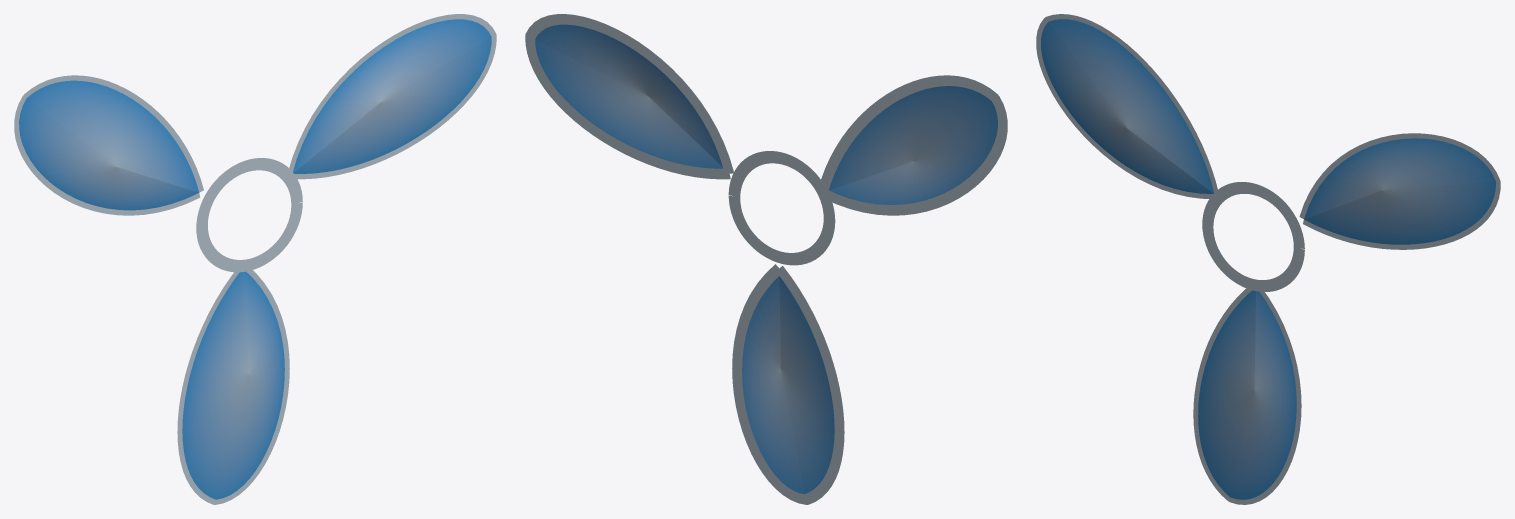
File: 2073_Riptide_CoexistOverall_HydroRiptideSymbol.fbx
3 views of the same model, side by side, from view 1: azimuth 30°, elevation 25°; view 2: azimuth 150°, elevation 25°; view 3: azimuth 330°, elevation 25° (orthographic). The views are drawn at different scales.
Parts seen in each view (by area): view 1: PART_Hydro_AuthoredRiptideLeaf_0, PART_Hydro_AuthoredRiptideLeaf_2, PART_Hydro_AuthoredRiptideLeaf_1, PART_Hydro_SmallClearRiptideCenter, PART_Hydro_RiptideLeafColdRim_1, PART_Hydro_RiptideLeafColdRim_0, PART_Hydro_RiptideLeafColdRim_2; view 2: PART_Hydro_AuthoredRiptideLeaf_2, PART_Hydro_AuthoredRiptideLeaf_0, PART_Hydro_AuthoredRiptideLeaf_1, PART_Hydro_RiptideLeafColdRim_2, PART_Hydro_RiptideLeafColdRim_0, PART_Hydro_RiptideLeafColdRim_1, PART_Hydro_SmallClearRiptideCenter; view 3: PART_Hydro_AuthoredRiptideLeaf_1, PART_Hydro_AuthoredRiptideLeaf_0, PART_Hydro_AuthoredRiptideLeaf_2, PART_Hydro_SmallClearRiptideCenter, PART_Hydro_RiptideLeafColdRim_0, PART_Hydro_RiptideLeafColdRim_1, PART_Hydro_RiptideLeafColdRim_2.
Boxes of the visible parts, bbox=[...] form: PART_Hydro_AuthoredRiptideLeaf_0: bbox=[293, 19, 491, 173]; PART_Hydro_AuthoredRiptideLeaf_2: bbox=[182, 271, 284, 499]; PART_Hydro_AuthoredRiptideLeaf_1: bbox=[19, 80, 199, 210]; PART_Hydro_SmallClearRiptideCenter: bbox=[196, 158, 302, 272]; PART_Hydro_RiptideLeafColdRim_1: bbox=[14, 75, 203, 215]; PART_Hydro_RiptideLeafColdRim_0: bbox=[289, 14, 496, 179]; PART_Hydro_RiptideLeafColdRim_2: bbox=[177, 270, 289, 504]; PART_Hydro_AuthoredRiptideLeaf_2: bbox=[742, 276, 834, 494]; PART_Hydro_AuthoredRiptideLeaf_0: bbox=[535, 24, 722, 168]; PART_Hydro_AuthoredRiptideLeaf_1: bbox=[829, 86, 997, 204]; PART_Hydro_RiptideLeafColdRim_2: bbox=[732, 264, 844, 504]; PART_Hydro_RiptideLeafColdRim_0: bbox=[525, 14, 733, 179]; PART_Hydro_RiptideLeafColdRim_1: bbox=[818, 75, 1007, 215]; PART_Hydro_SmallClearRiptideCenter: bbox=[728, 151, 835, 265]; PART_Hydro_AuthoredRiptideLeaf_1: bbox=[1041, 19, 1213, 193]; PART_Hydro_AuthoredRiptideLeaf_0: bbox=[1304, 138, 1495, 244]; PART_Hydro_AuthoredRiptideLeaf_2: bbox=[1198, 290, 1296, 499]; PART_Hydro_SmallClearRiptideCenter: bbox=[1202, 182, 1304, 291]; PART_Hydro_RiptideLeafColdRim_0: bbox=[1299, 133, 1500, 249]; PART_Hydro_RiptideLeafColdRim_1: bbox=[1036, 14, 1217, 198]; PART_Hydro_RiptideLeafColdRim_2: bbox=[1193, 288, 1301, 504].
Size of the model in its own units: 117 by 108 by 2.
